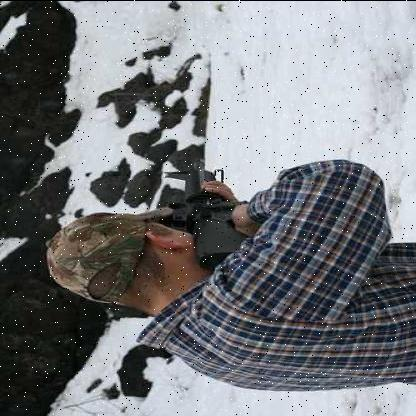rifle: (145, 135, 273, 266)
